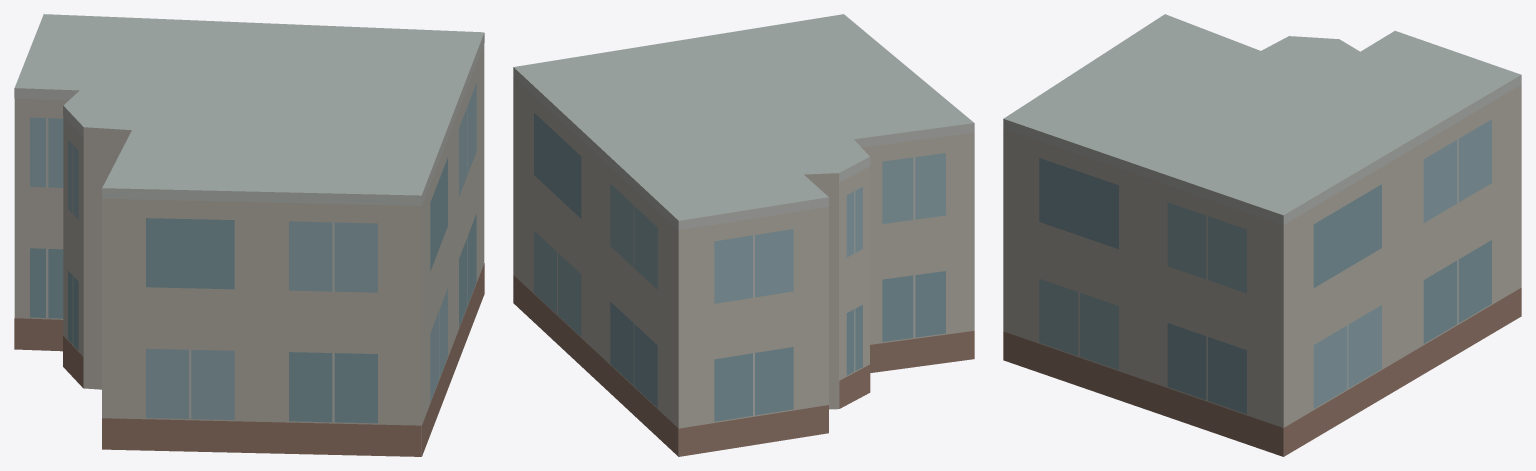
The model's file is survey-upis-32599301.glb.
3 renders of one model, left to right at view 1: azimuth 30°, elevation 25°; view 2: azimuth 150°, elevation 25°; view 3: azimuth 270°, elevation 25°, orthographic. The views are drawn at different scales.
Visible parts, largest first — view 1: survey-upis-32599301.tmp; view 2: survey-upis-32599301.tmp; view 3: survey-upis-32599301.tmp.
Part boxes in pixels (x1,y1,x2,y2): survey-upis-32599301.tmp: [14, 14, 484, 456]; survey-upis-32599301.tmp: [513, 14, 974, 456]; survey-upis-32599301.tmp: [1003, 14, 1521, 456].
Bounding box in the file's own units: 10.92 × 6.1 × 11.87.
